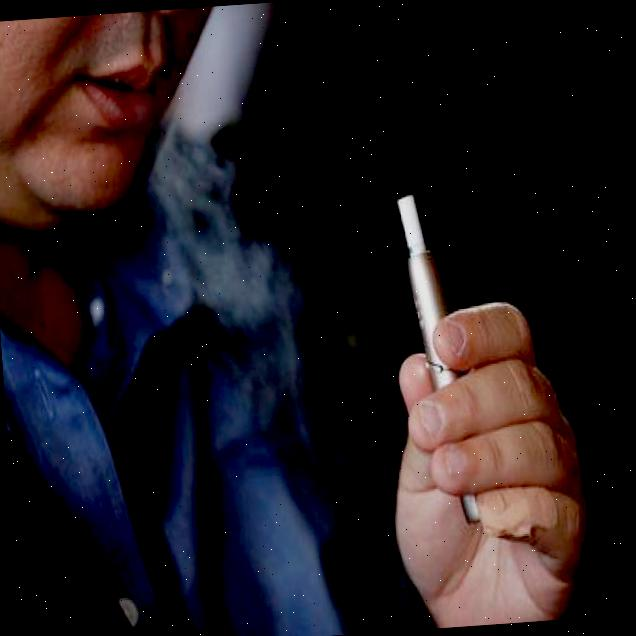smoke: (159, 164, 276, 323)
